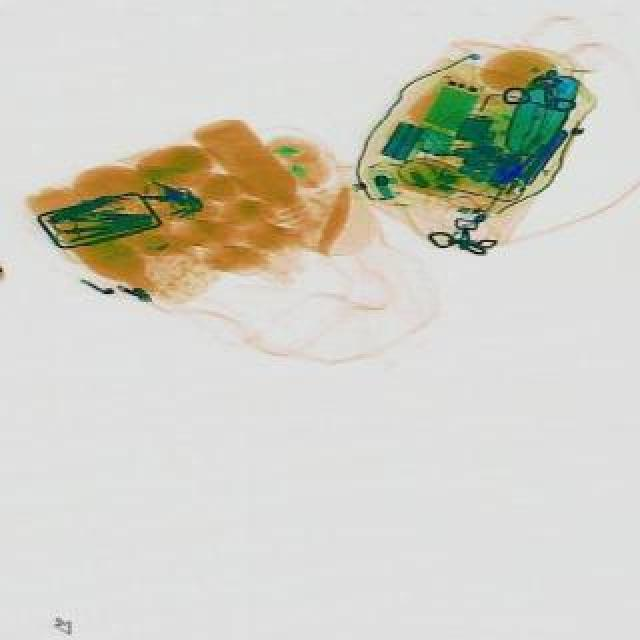pliers: (52, 206, 132, 250)
